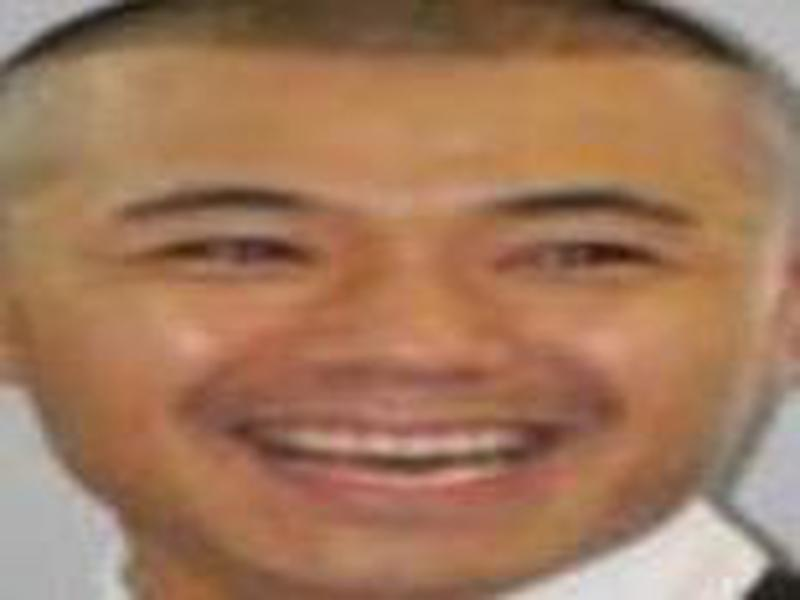without_mask: (10, 51, 785, 595)
